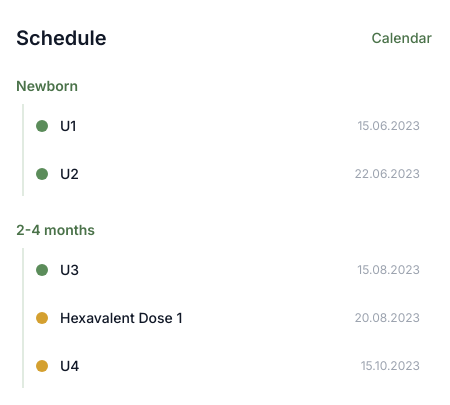
Test: Timeline › should toggle between list and calendar view
The width and height of the screenshot is (450, 405).
Click the button "Calendar" at point(402, 38), box [372, 16, 432, 60]
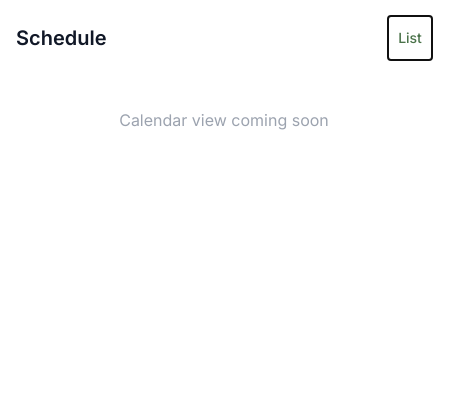
Check: the button "List" is shown, box [388, 16, 432, 60]
